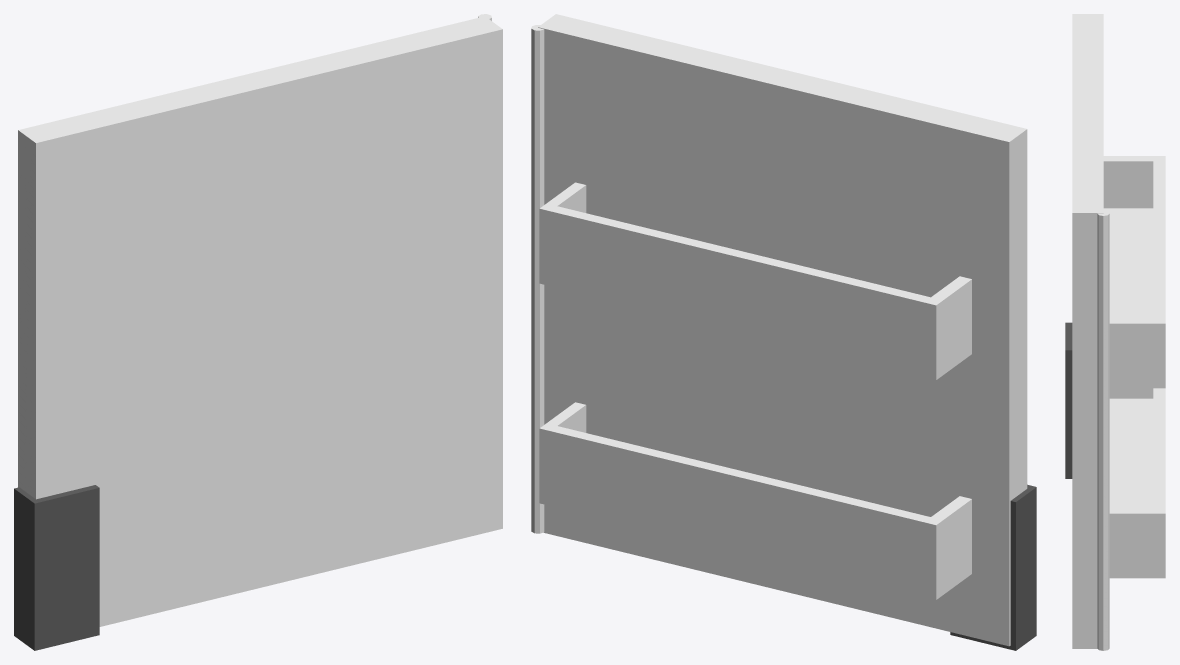
File: fridge door.fbx
The picture shows the model from 3 angles, left to right: view 1: azimuth 30°, elevation 25°; view 2: azimuth 150°, elevation 25°; view 3: azimuth 270°, elevation 25°; orthographic projection. The views are drawn at different scales.
Parts seen in each view (by area): view 1: fridge_door_body, fridge_handler; view 2: fridge_door_body, fridge_shelf1, fridge_shelf2, fridge_door_axis, fridge_handler; view 3: fridge_door_body, fridge_shelf1, fridge_shelf2, fridge_door_axis, fridge_handler.
Boxes of the visible parts, x1=… form: fridge_door_body: x1=18, y1=16, x2=502, y2=626; fridge_handler: x1=14, y1=485, x2=99, y2=650; fridge_door_body: x1=538, y1=14, x2=1027, y2=646; fridge_shelf1: x1=539, y1=182, x2=971, y2=379; fridge_shelf2: x1=539, y1=402, x2=971, y2=599; fridge_door_axis: x1=531, y1=25, x2=544, y2=533; fridge_handler: x1=950, y1=484, x2=1036, y2=650; fridge_door_body: x1=1072, y1=14, x2=1103, y2=648; fridge_shelf1: x1=1103, y1=156, x2=1165, y2=388; fridge_shelf2: x1=1109, y1=388, x2=1165, y2=578; fridge_door_axis: x1=1097, y1=211, x2=1109, y2=650; fridge_handler: x1=1065, y1=322, x2=1072, y2=478.
Size of the model in its own units: 155 by 156 by 32.15.
Materials: 2 (2 with a texture image).
